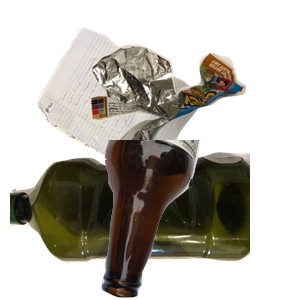glass: (99, 140, 300, 300)
paper: (35, 25, 232, 204)
plastic: (10, 149, 250, 300)
trash: (88, 42, 300, 219)
